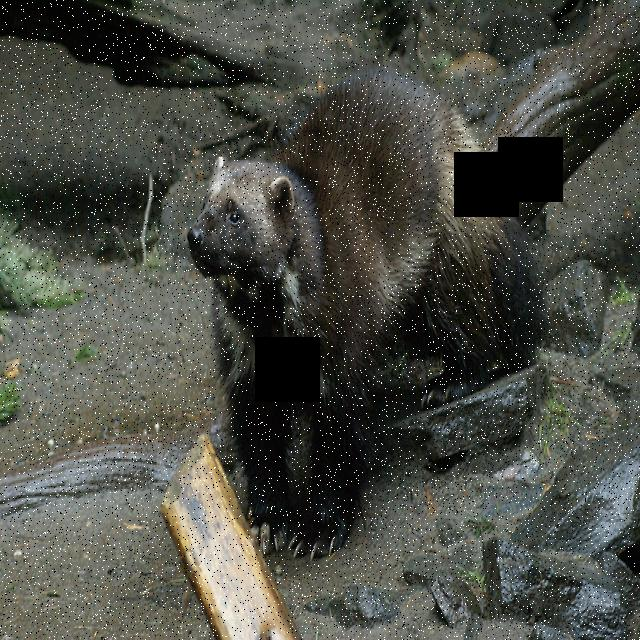Bear: (183, 60, 553, 573)
